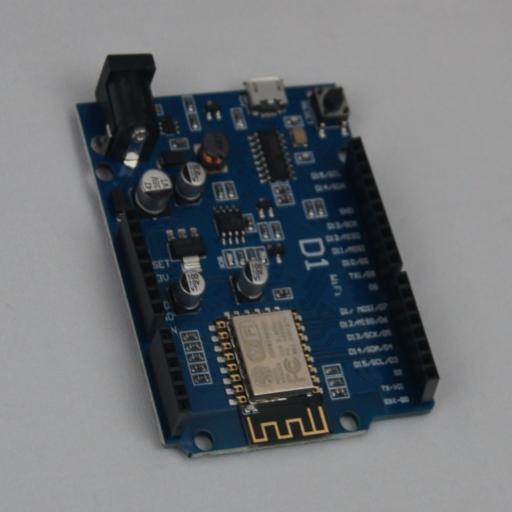Arduino Uno WiFi Shield: (76, 54, 440, 458)
